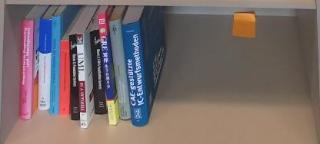book-spine: (122, 21, 148, 128), (108, 17, 131, 121), (97, 12, 117, 126), (87, 29, 107, 116), (20, 19, 35, 121), (37, 18, 52, 112), (50, 15, 62, 116), (67, 34, 80, 121), (76, 34, 87, 129), (60, 41, 69, 116)
